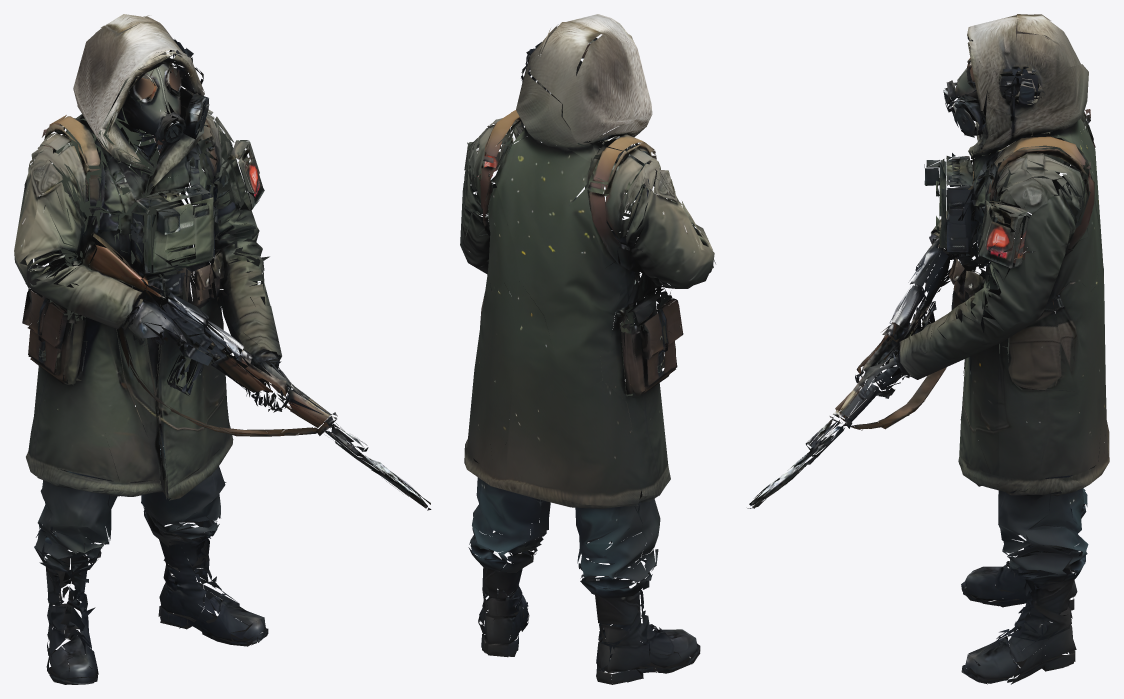
Rendered from char_player_survivor_alt_lod2.glb.
3 renders of one model, left to right at view 1: azimuth 30°, elevation 25°; view 2: azimuth 150°, elevation 25°; view 3: azimuth 270°, elevation 25°, orthographic. The views are drawn at different scales.
Visible parts, largest first — view 1: char_player_survivor_alt_lod2; view 2: char_player_survivor_alt_lod2; view 3: char_player_survivor_alt_lod2.
Part boxes in pixels (left/top/right/bottom): char_player_survivor_alt_lod2: left=14, top=14, right=431, bottom=684; char_player_survivor_alt_lod2: left=460, top=14, right=715, bottom=684; char_player_survivor_alt_lod2: left=747, top=14, right=1109, bottom=684.
Bounding box in the file's own units: 0.8666 × 1.83 × 0.9808.
Materials: 1 (1 with a texture image).
